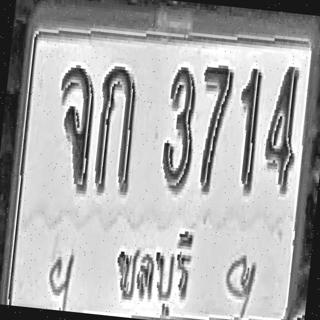A01: (92, 62, 141, 195)
A08: (50, 62, 99, 192)
N01: (231, 64, 264, 194)
N03: (159, 63, 200, 193)
N04: (261, 63, 302, 193)
N07: (191, 62, 234, 194)
P13: (104, 218, 198, 320)
